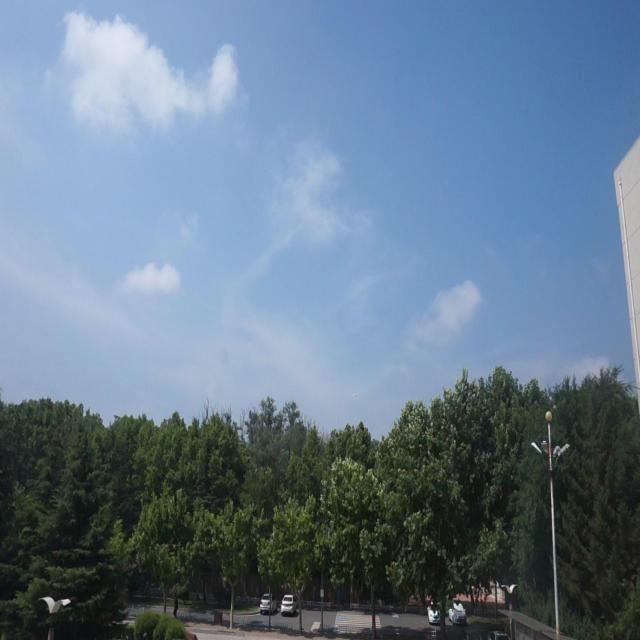UAV: (352, 393, 358, 398)
